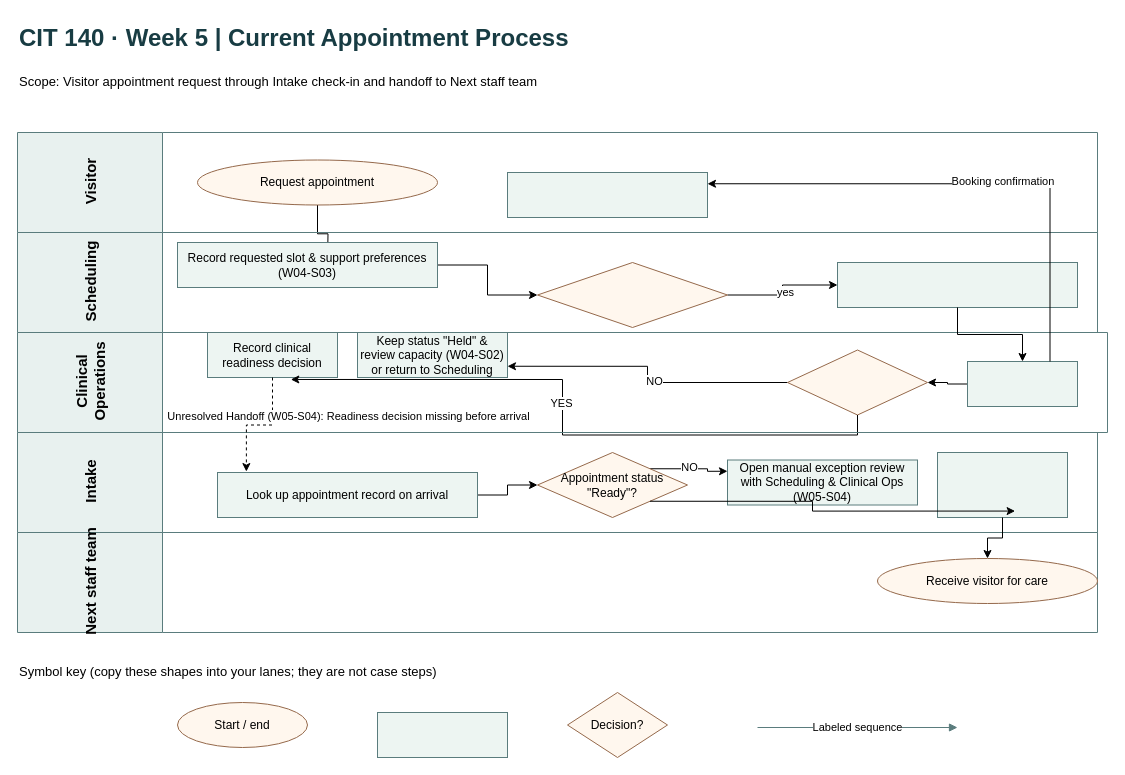
This 1125x775 diagram has some shape labels left out. Here are the shapes that lost their labels. From the top down, the centre of each, then its label:
At (x=607, y=195): "Arrive at clinic for appointment".
At (x=632, y=295): "Booking details complete?".
At (x=957, y=285): "Record held slot & issue booking confirmation".
At (x=857, y=382): "Room & clinician available?".
At (x=1022, y=383): "Check room & qualified clinician availability".
At (x=1002, y=485): "Confirm support arrangements (W04-S03) & route visitor".
At (x=442, y=735): "Activity".
